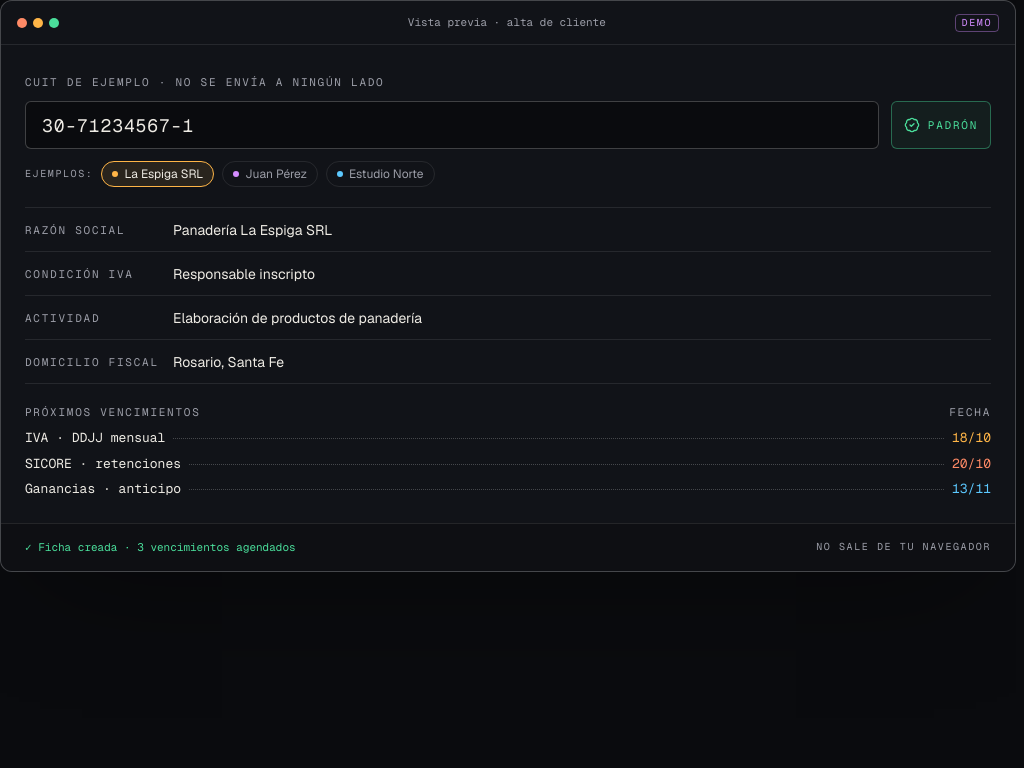
Scenario: <CuitDemo> › types a sample contribuyente when its chip is picked
This screenshot has width=1024, height=768.
What coordinates should you click on to do the following:
click the button "Juan Pérez"
I would click on:
 (270, 174)
Its box is [222, 161, 318, 187].
Wait 5200 ms
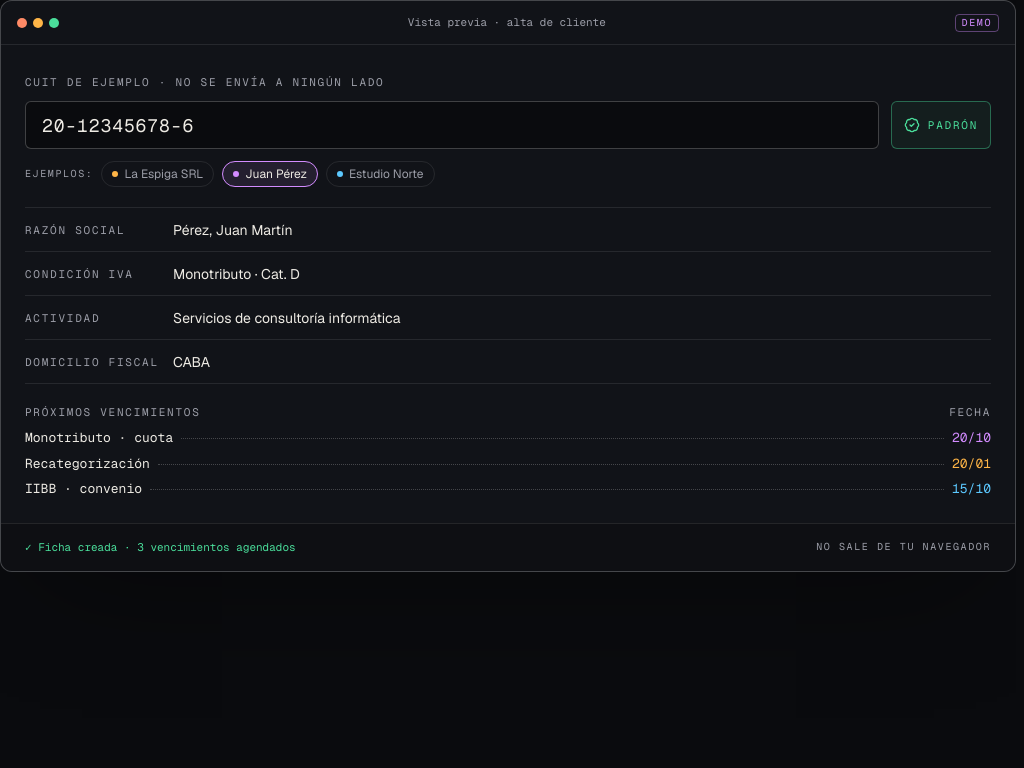
Check: the text "consultando padrón" is shown, box [25, 539, 296, 555]
Check: the field labelled "CUIT de ejemplo · no se envía a ningún lado" holds "20-12345678-6", box [25, 101, 879, 149]
Check: the text "Pérez, Juan Martín" is shown, box [173, 220, 292, 238]
